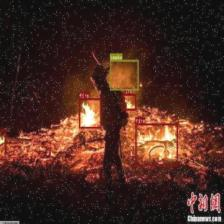smoke: (110, 60, 138, 90)
